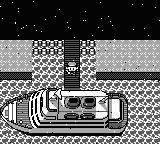captura: (0, 55, 159, 143), (0, 55, 65, 109)
main: (65, 62, 79, 75)
no-caminable: (0, 89, 129, 136), (96, 72, 159, 80), (33, 41, 63, 54), (0, 72, 32, 80), (81, 41, 96, 55)
